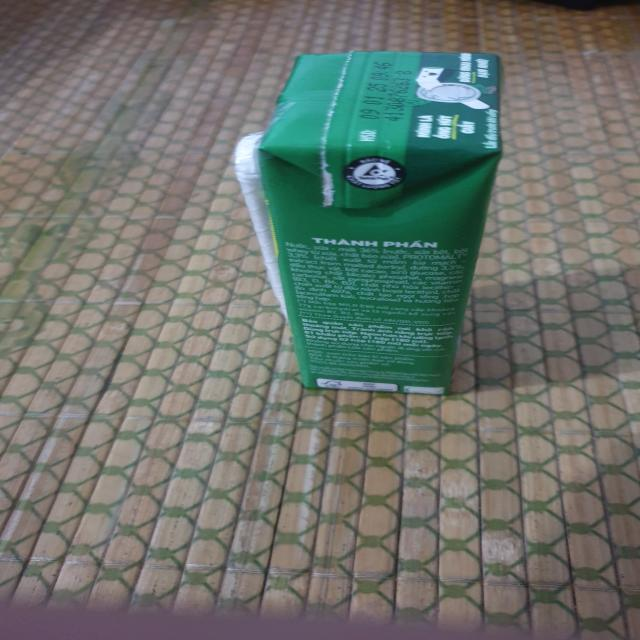Milo: (232, 52, 523, 398)
